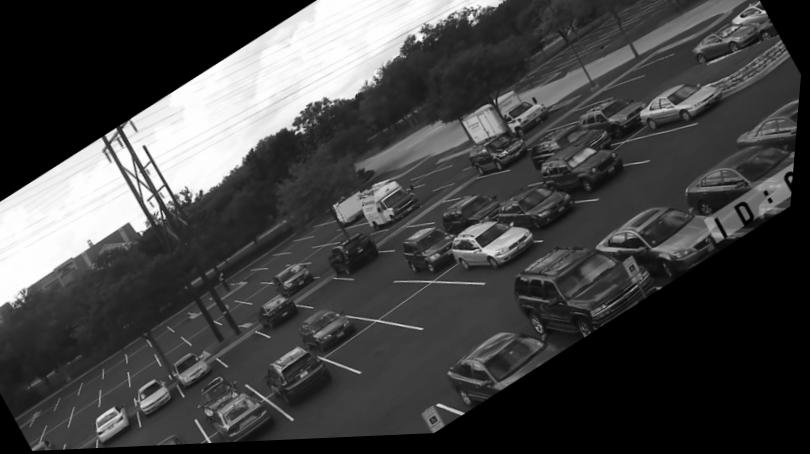empty: (390, 291, 485, 337), (367, 398, 470, 440), (350, 266, 431, 319), (333, 326, 415, 370), (616, 135, 697, 170), (221, 331, 279, 372), (149, 409, 199, 448), (609, 66, 659, 94), (251, 350, 292, 384), (454, 177, 509, 202), (414, 202, 464, 228), (305, 283, 355, 308), (585, 88, 631, 112), (384, 225, 426, 250), (136, 360, 169, 391), (70, 419, 103, 450), (552, 110, 595, 133), (189, 325, 229, 349), (220, 304, 261, 326), (108, 379, 139, 408), (164, 343, 198, 369), (406, 171, 450, 191), (78, 398, 106, 428), (161, 334, 192, 360), (209, 301, 245, 323), (38, 397, 66, 425), (505, 175, 544, 195), (307, 246, 343, 267), (48, 416, 77, 442), (134, 351, 162, 377), (151, 326, 182, 349), (108, 369, 135, 395), (185, 319, 217, 340), (106, 392, 136, 414), (53, 405, 80, 429), (236, 283, 270, 302), (333, 227, 370, 244), (248, 286, 279, 306), (290, 246, 322, 265), (171, 314, 200, 334), (132, 339, 156, 363), (261, 267, 293, 284), (82, 388, 106, 410), (314, 230, 347, 246), (316, 255, 338, 277), (110, 355, 133, 376), (234, 270, 268, 283), (305, 225, 335, 239), (89, 371, 108, 393), (68, 385, 85, 407), (262, 257, 293, 269), (248, 307, 268, 324), (285, 242, 313, 254)
occupied: (521, 252, 672, 343), (440, 333, 576, 404), (597, 214, 745, 275), (690, 152, 798, 214), (456, 225, 540, 280), (270, 349, 346, 408), (544, 149, 621, 202), (642, 89, 726, 136), (214, 390, 285, 445), (503, 190, 584, 235), (472, 131, 532, 182), (363, 184, 425, 232), (694, 28, 761, 71), (534, 129, 603, 170), (741, 104, 801, 150), (305, 312, 366, 356), (332, 235, 387, 281), (445, 197, 505, 239), (582, 104, 645, 143), (407, 231, 458, 278), (261, 297, 306, 333), (101, 406, 140, 447), (205, 379, 240, 422), (277, 266, 318, 300), (180, 355, 218, 390), (145, 381, 179, 418)
